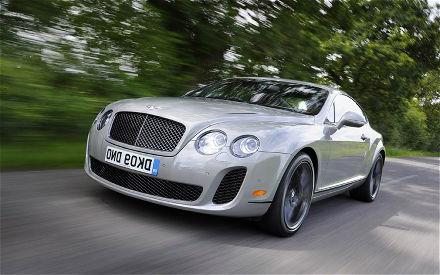Car: (48, 65, 401, 251)
